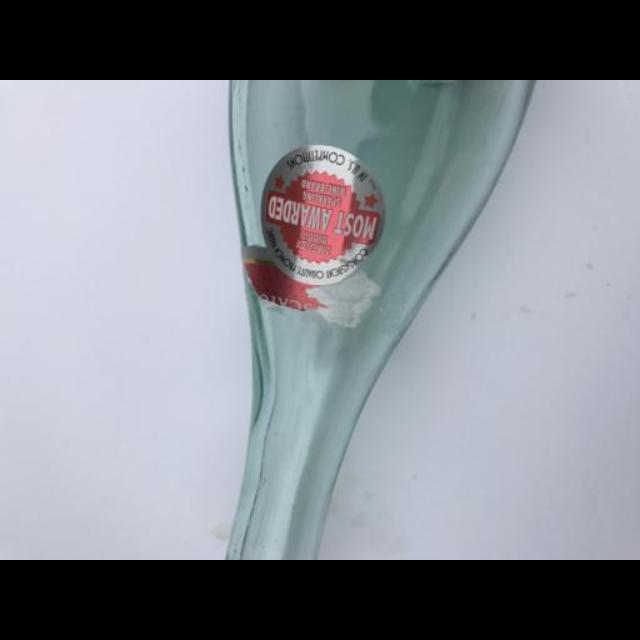garrafa de vidro: (223, 80, 537, 560)
